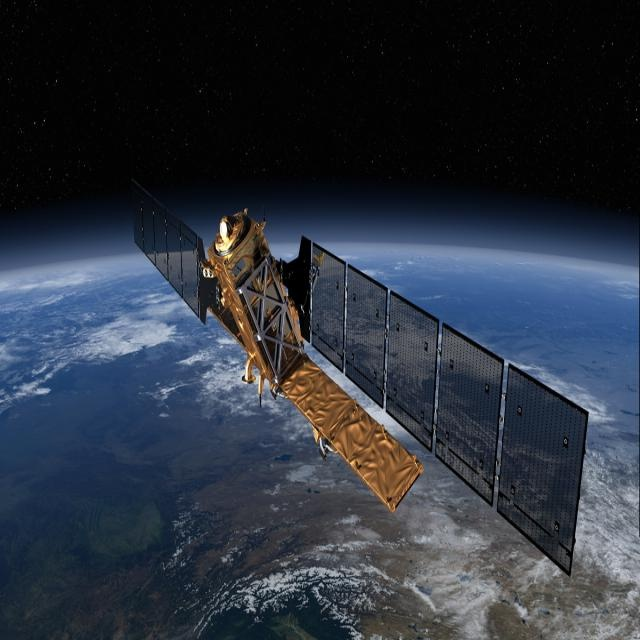satellite: (98, 161, 594, 592)
